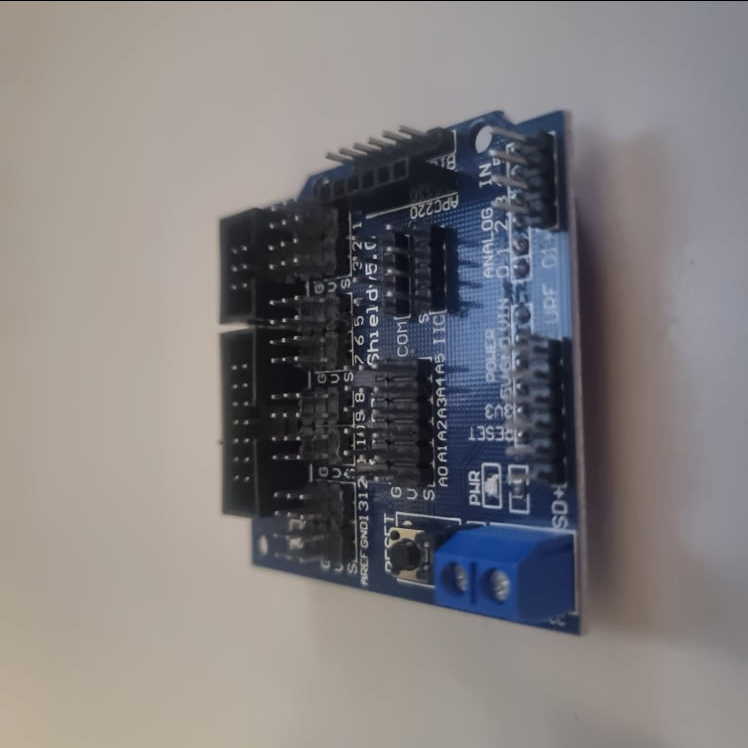5V EXPANSION: (210, 103, 577, 635)
